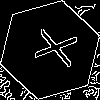X: (25, 25, 78, 69)
